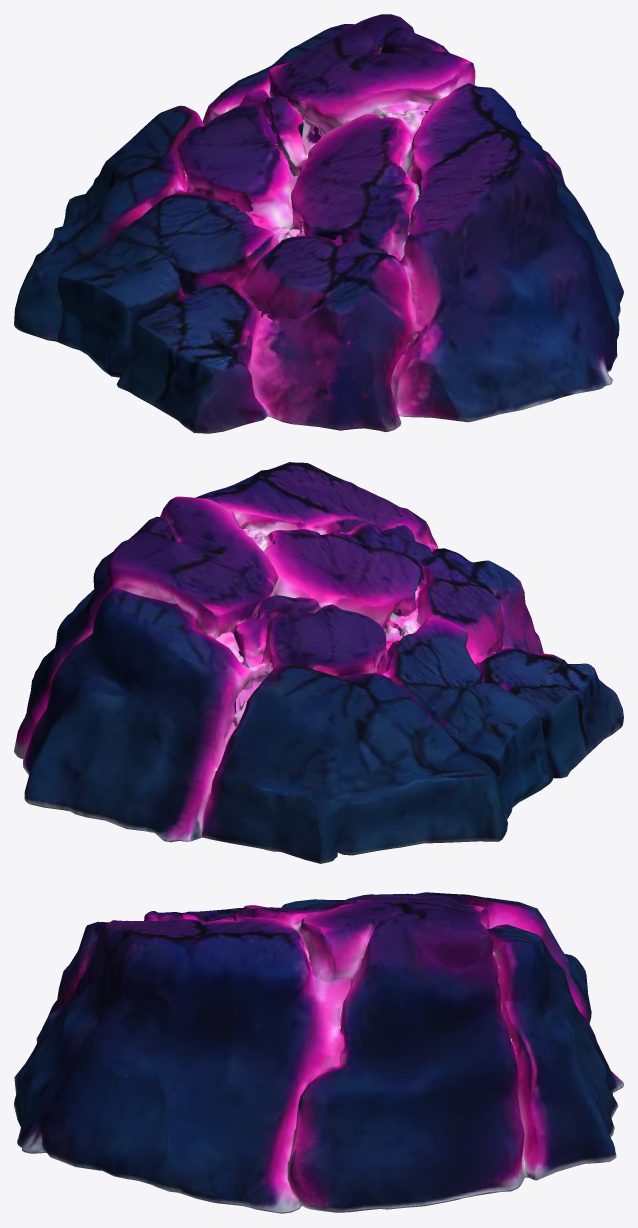
File: shore-stone-6-generated-2026-05-17T20-07-37-262Z.low.glb
3 views of the same model, one above another, from view 1: azimuth 30°, elevation 25°; view 2: azimuth 150°, elevation 25°; view 3: azimuth 270°, elevation 25° (orthographic). The views are drawn at different scales.
Visible parts, largest first — view 1: temp_mesh.ply; view 2: temp_mesh.ply; view 3: temp_mesh.ply.
Boxes of the visible parts, x1,y1,x2,y2 form: temp_mesh.ply: (14,14,623,433); temp_mesh.ply: (14,462,623,863); temp_mesh.ply: (14,892,623,1213).
Size of the model in its own units: 1.97 by 0.8089 by 1.97.
Materials: 1 (1 with a texture image).
